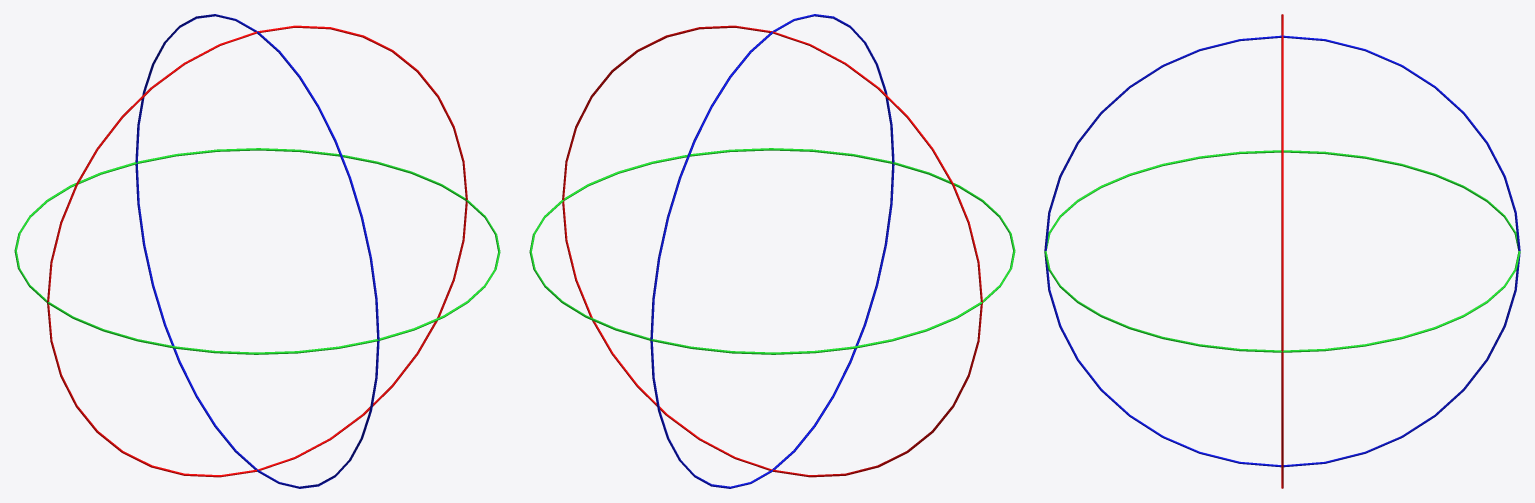
File: 选择圈.FBX
3 renders of one model, left to right at view 1: azimuth 30°, elevation 25°; view 2: azimuth 150°, elevation 25°; view 3: azimuth 270°, elevation 25°, orthographic. The views are drawn at different scales.
Visible parts, largest first — view 1: 红圈01, 篮圈01, 绿圈01; view 2: 红圈01, 篮圈01, 绿圈01; view 3: 篮圈01, 绿圈01, 红圈01.
Boxes of the visible parts, x1,y1,x2,y2 form: 红圈01: (47,25,467,477); 篮圈01: (135,14,379,488); 绿圈01: (14,148,500,354); 红圈01: (562,25,982,477); 篮圈01: (650,14,894,488); 绿圈01: (529,148,1015,354); 篮圈01: (1044,35,1520,467); 绿圈01: (1044,150,1520,352); 红圈01: (1281,14,1283,488).
Size of the model in its own units: 3.94 by 3.94 by 3.94.
